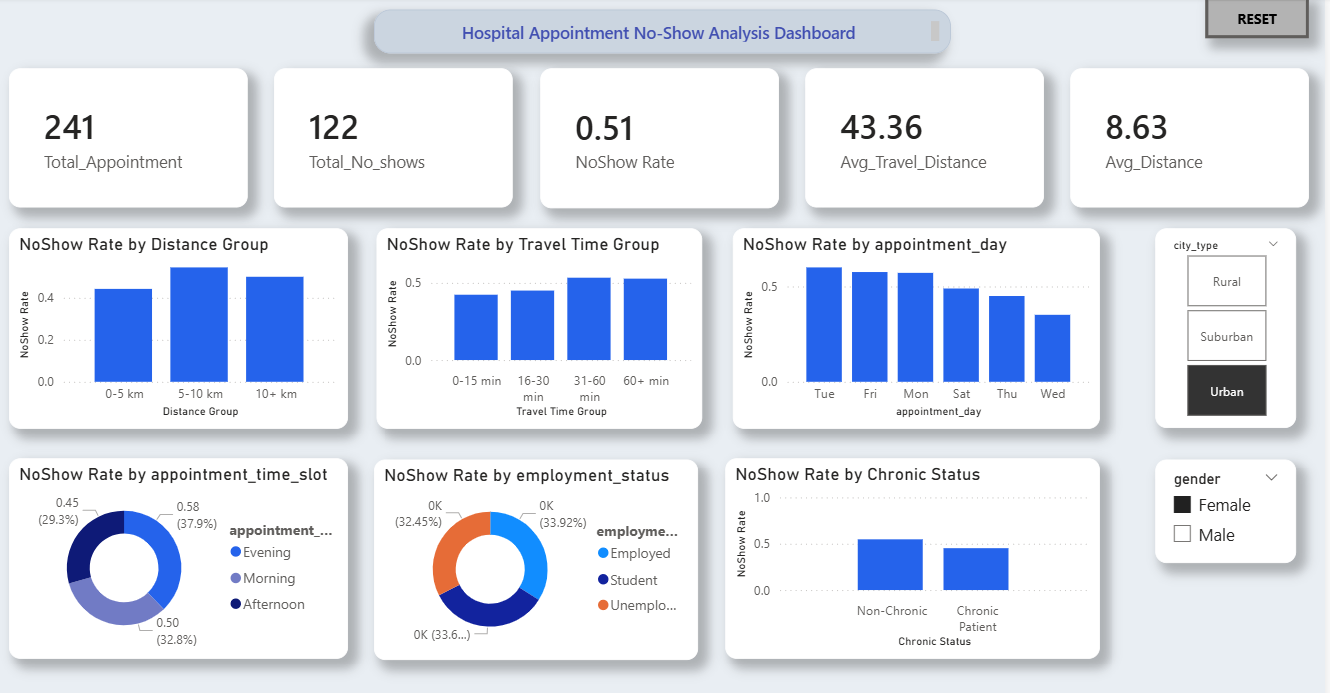

What the dashboard file says about the page in this screenshot:
{"tool":"powerbi","page":{"name":"Main Analysis","canvas":[1280,720],"ordinal":0},"visuals":[{"type":"textbox","box":[361.4,12.3,557.1,42.5],"z":0},{"type":"donutChart","fields":{"Y":["hospital_appointment_no_show_5000.NoShow Rate"],"Category":["hospital_appointment_no_show_5000.employment_status"]},"box":[361.7,446.6,313,193.4],"z":1000},{"type":"cardVisual","fields":{"Data":["hospital_appointment_no_show_5000.Total_Appointment"]},"box":[9.4,69,230.4,134.8],"z":2000},{"type":"cardVisual","fields":{"Data":["hospital_appointment_no_show_5000.Total_No_shows"]},"box":[265.7,69,230.4,134.8],"z":3000},{"type":"cardVisual","fields":{"Data":["hospital_appointment_no_show_5000.NoShow Rate"]},"box":[522,68.3,230,135],"z":4000},{"type":"cardVisual","fields":{"Data":["hospital_appointment_no_show_5000.Avg_Travel_Distance"]},"box":[778,69,230.4,134.8],"z":5000},{"type":"cardVisual","fields":{"Data":["hospital_appointment_no_show_5000.Avg_Distance"]},"box":[1034.3,69,230.4,134.8],"z":6000},{"type":"clusteredColumnChart","fields":{"Y":["hospital_appointment_no_show_5000.NoShow Rate"],"Category":["hospital_appointment_no_show_5000.Distance Group"]},"box":[9.7,222.6,327,193.4],"z":7000},{"type":"clusteredColumnChart","fields":{"Category":["hospital_appointment_no_show_5000.Travel Time Group"],"Y":["hospital_appointment_no_show_5000.NoShow Rate"]},"box":[364.5,222.6,314.4,193.4],"z":8000},{"type":"donutChart","fields":{"Category":["hospital_appointment_no_show_5000.appointment_time_slot"],"Y":["hospital_appointment_no_show_5000.NoShow Rate"]},"box":[9.7,445.2,327,193.4],"z":9000},{"type":"slicer","fields":{"Values":["hospital_appointment_no_show_5000.city_type"]},"box":[1116,223.2,136.3,193],"z":13000},{"type":"clusteredColumnChart","fields":{"Category":["hospital_appointment_no_show_5000.appointment_day"],"Y":["hospital_appointment_no_show_5000.NoShow Rate"]},"box":[708.2,222.6,354.8,193.4],"z":14000},{"type":"clusteredColumnChart","fields":{"Category":["hospital_appointment_no_show_5000.Chronic Status"],"Y":["hospital_appointment_no_show_5000.NoShow Rate"]},"box":[701.2,445.2,361.7,193.4],"z":15000},{"type":"slicer","fields":{"Values":["hospital_appointment_no_show_5000.gender"]},"box":[1116,446.4,136.3,100.1],"z":16000},{"type":"actionButton","title":"RESEYTT","box":[1164.2,0,100.1,39.8],"z":16001}]}

Visuals, with their boxes on the page's 1280x720 design canvas (x1, y1, x2, y2). These are canvas units, not pixel positions in the 1330x693 screenshot, which may show the page scaled, cropped or inside an application window:
textbox: bbox(361, 12, 918, 55)
donutChart - hospital_appointment_no_show_5000.NoShow Rate x hospital_appointment_no_show_5000.employment_status: bbox(362, 447, 675, 640)
cardVisual - hospital_appointment_no_show_5000.Total_Appointment: bbox(9, 69, 240, 204)
cardVisual - hospital_appointment_no_show_5000.Total_No_shows: bbox(266, 69, 496, 204)
cardVisual - hospital_appointment_no_show_5000.NoShow Rate: bbox(522, 68, 752, 203)
cardVisual - hospital_appointment_no_show_5000.Avg_Travel_Distance: bbox(778, 69, 1008, 204)
cardVisual - hospital_appointment_no_show_5000.Avg_Distance: bbox(1034, 69, 1265, 204)
clusteredColumnChart - hospital_appointment_no_show_5000.NoShow Rate x hospital_appointment_no_show_5000.Distance Group: bbox(10, 223, 337, 416)
clusteredColumnChart - hospital_appointment_no_show_5000.Travel Time Group x hospital_appointment_no_show_5000.NoShow Rate: bbox(364, 223, 679, 416)
donutChart - hospital_appointment_no_show_5000.appointment_time_slot x hospital_appointment_no_show_5000.NoShow Rate: bbox(10, 445, 337, 639)
slicer - hospital_appointment_no_show_5000.city_type: bbox(1116, 223, 1252, 416)
clusteredColumnChart - hospital_appointment_no_show_5000.appointment_day x hospital_appointment_no_show_5000.NoShow Rate: bbox(708, 223, 1063, 416)
clusteredColumnChart - hospital_appointment_no_show_5000.Chronic Status x hospital_appointment_no_show_5000.NoShow Rate: bbox(701, 445, 1063, 639)
slicer - hospital_appointment_no_show_5000.gender: bbox(1116, 446, 1252, 546)
"RESEYTT" actionButton: bbox(1164, 0, 1264, 40)
